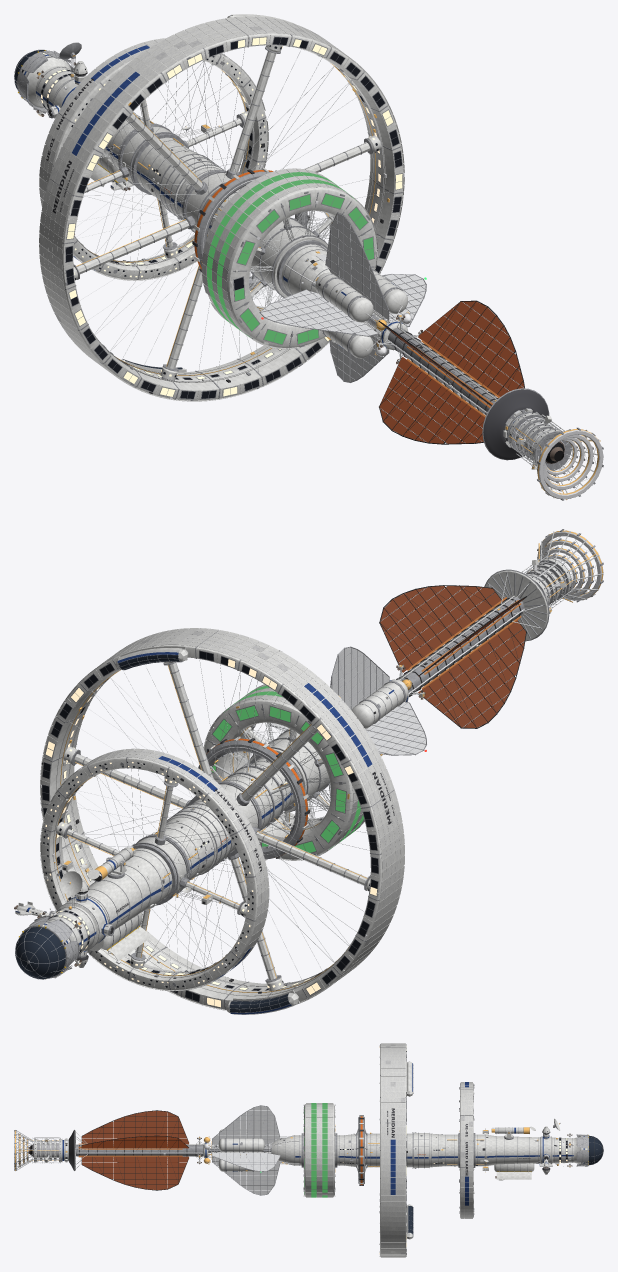
File: meridian.glb
The picture shows the model from 3 angles, top to bottom: view 1: azimuth 30°, elevation 25°; view 2: azimuth 150°, elevation 25°; view 3: azimuth 270°, elevation 25°; orthographic projection. The views are drawn at different scales.
Parts seen in each view (by area): view 1: CochRingW_white_m, CochHull_grey, CochRingW_tile, CochHull_hot, CochHull_radw, CochHull_white, CochRingH_white_m, CochRingS_white_m, CochRingW_grey, CochRingH_hydro, CochHull_tank, CochRingH_tile (+25 smaller); view 2: CochRingW_white_m, CochHull_white, CochHull_hot, CochHull_grey, CochRingW_tile, CochRingS_white_m, CochRingH_white_m, CochRingW_grey, CochHull_radw, CochRingS_tile, CochRingW_truss, CochHull_white_s (+27 smaller); view 3: CochHull_white, CochHull_hot, CochRingW_tile, CochHull_grey, CochHull_radw, CochRingH_tile, CochRingW_white_m, CochRingS_tile, CochHull_cc, CochHull_tank, CochHull_white_s, CochRingH_hydro (+12 smaller).
Part boxes in pixels (x1=…): CochRingW_white_m: x1=40, y1=14, x2=403, y2=400; CochHull_grey: x1=14, y1=42, x2=603, y2=500; CochRingW_tile: x1=39, y1=16, x2=404, y2=401; CochHull_hot: x1=379, y1=301, x2=524, y2=443; CochHull_radw: x1=205, y1=130, x2=539, y2=447; CochHull_white: x1=21, y1=52, x2=525, y2=439; CochRingH_white_m: x1=203, y1=169, x2=377, y2=347; CochRingS_white_m: x1=40, y1=40, x2=267, y2=279; CochRingW_grey: x1=50, y1=19, x2=403, y2=400; CochRingH_hydro: x1=207, y1=172, x2=373, y2=344; CochHull_tank: x1=160, y1=154, x2=407, y2=358; CochRingH_tile: x1=201, y1=168, x2=377, y2=349; CochRingW_white_m: x1=41, y1=629, x2=404, y2=1014; CochHull_white: x1=17, y1=570, x2=548, y2=961; CochHull_hot: x1=380, y1=586, x2=525, y2=727; CochHull_grey: x1=15, y1=529, x2=603, y2=979; CochRingW_tile: x1=40, y1=628, x2=404, y2=1010; CochRingS_white_m: x1=41, y1=750, x2=267, y2=990; CochRingH_white_m: x1=204, y1=689, x2=362, y2=859; CochRingW_grey: x1=41, y1=630, x2=394, y2=1012; CochHull_radw: x1=37, y1=647, x2=425, y2=911; CochRingS_tile: x1=40, y1=748, x2=269, y2=991; CochRingW_truss: x1=64, y1=660, x2=369, y2=995; CochHull_white_s: x1=15, y1=558, x2=571, y2=977; CochHull_white: x1=62, y1=1130, x2=588, y2=1179; CochHull_hot: x1=82, y1=1111, x2=188, y2=1189; CochRingW_tile: x1=381, y1=1043, x2=405, y2=1257; CochHull_grey: x1=14, y1=1105, x2=603, y2=1195; CochHull_radw: x1=65, y1=1106, x2=546, y2=1194; CochRingH_tile: x1=306, y1=1103, x2=333, y2=1197; CochRingW_white_m: x1=380, y1=1044, x2=413, y2=1256; CochRingS_tile: x1=460, y1=1082, x2=472, y2=1218; CochHull_cc: x1=81, y1=1110, x2=188, y2=1190; CochHull_tank: x1=218, y1=1129, x2=429, y2=1171; CochHull_white_s: x1=34, y1=1115, x2=587, y2=1183; CochRingH_hydro: x1=304, y1=1103, x2=327, y2=1197.
Size of the model in its own units: 204 by 204 by 561.
Materials: 39 (15 with a texture image).
